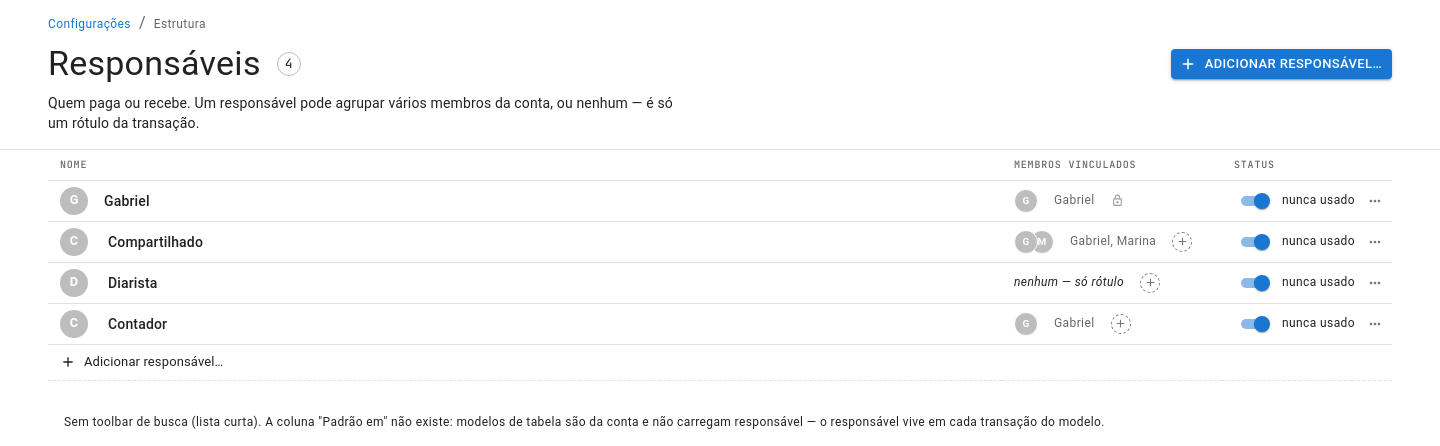
Scenario: ResponsiblePartiesManager (revisão 'Tudo é responsável') › o '+' de cada linha comum oferece só quem ainda não está vinculado NAQUELA linha
Note: "Diarista" (0 vinculados) — os 3 membros da conta estão disponíveis.
Click the button named "Vincular membro a Diarista" at (1150, 282), box 1140,272 -> 1160,292
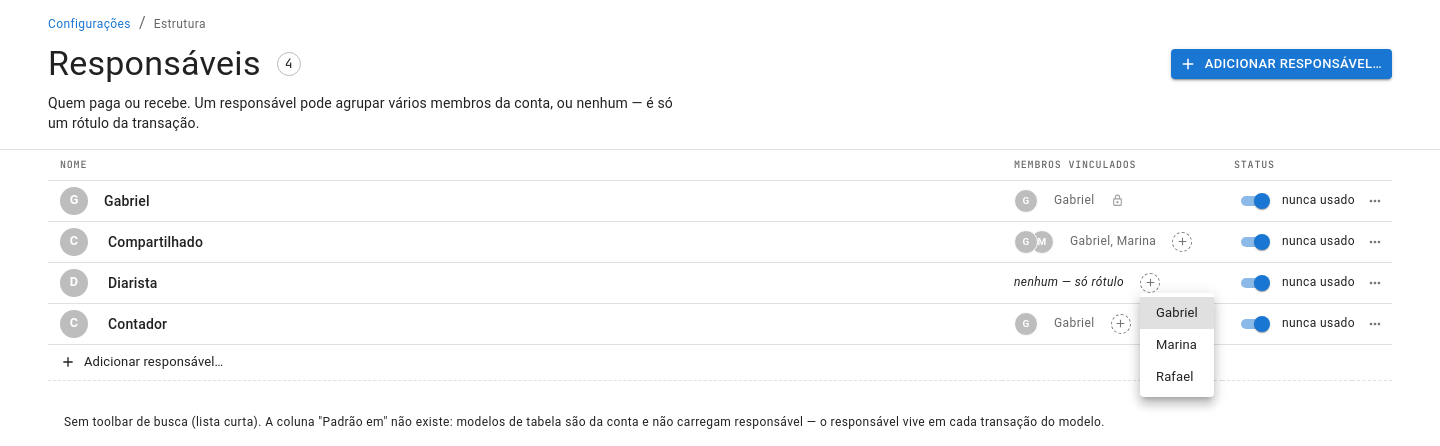
Press Escape
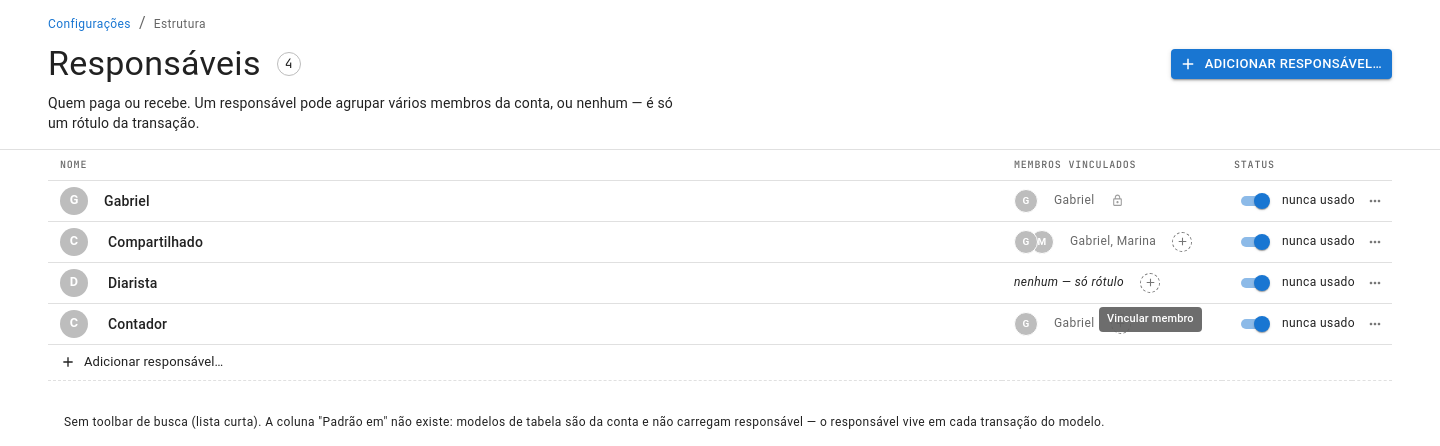
Expected: the menu is gone
Note: "Compartilhado" (Gabriel + Marina vinculados) — só Rafael sobra.
Click the button named "Vincular membro a Compartilhado" at (1182, 242), box 1172,232 -> 1192,252
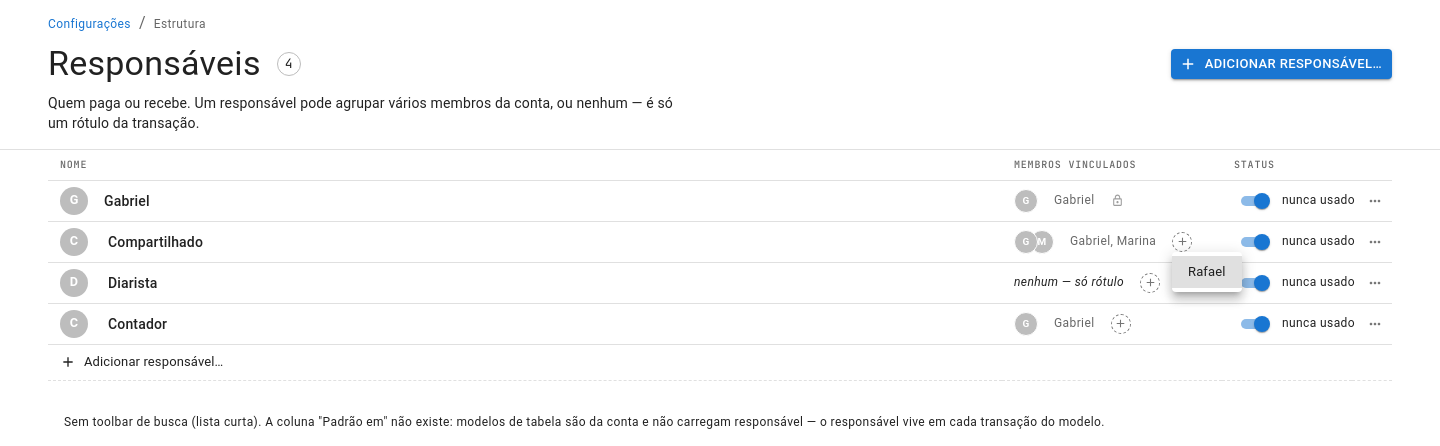
Expected: the menu items read "Rafael", in this order, 1172,256 -> 1242,288
